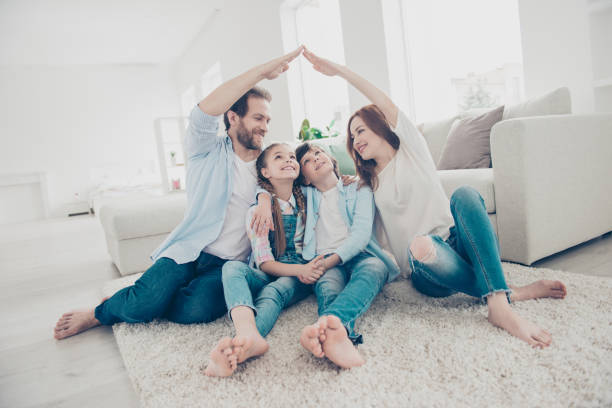without mask: (228, 85, 273, 152), (344, 101, 389, 168), (261, 143, 299, 179), (301, 146, 335, 184)
